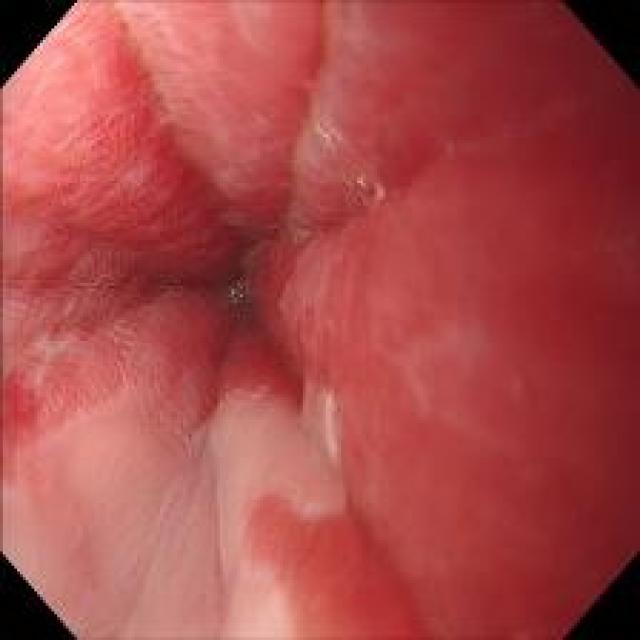blur: (64, 362, 386, 630), (69, 28, 390, 245)
color misalignment: (225, 279, 248, 305)
